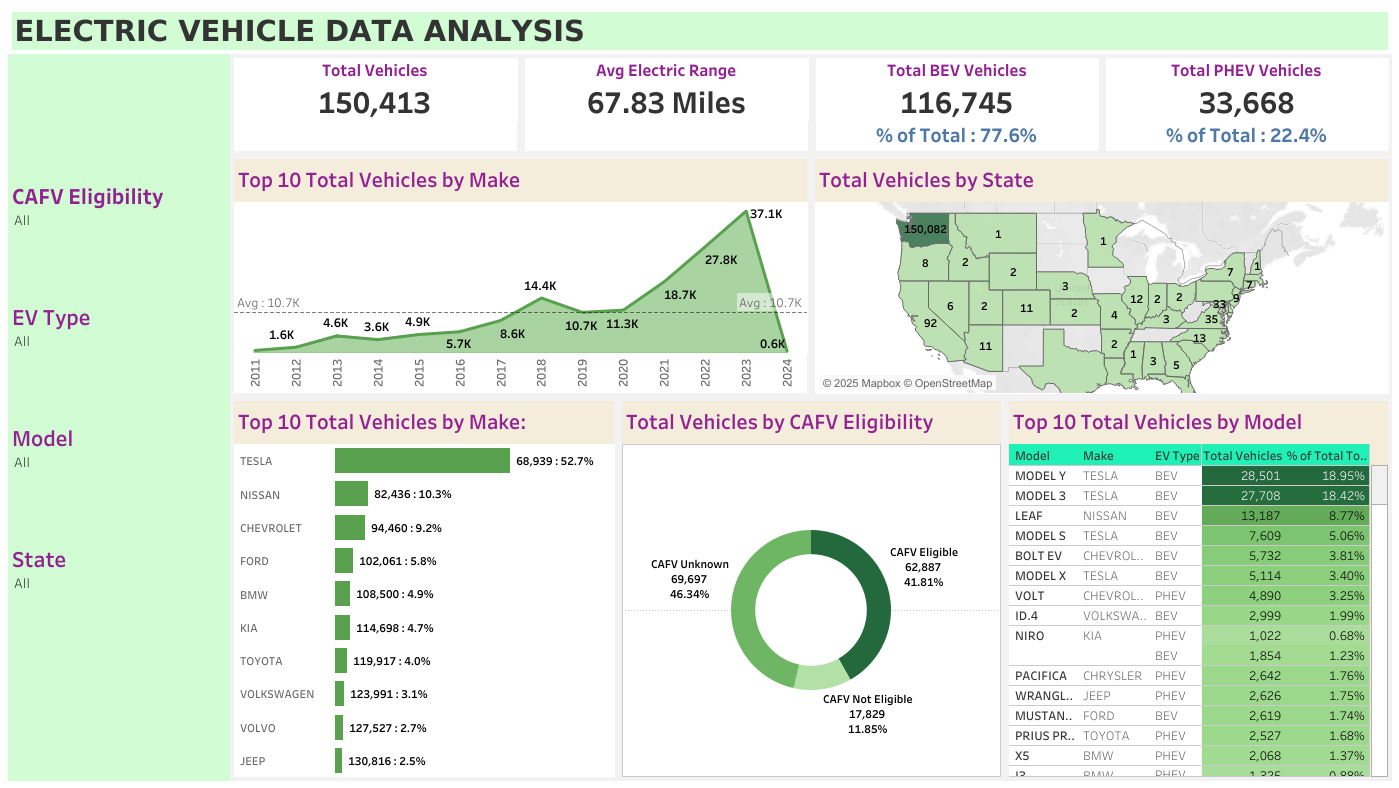

The page's visual inventory and layout, read from the dashboard file:
{"tool":"tableau","page":{"name":"Electric Vehicle Data Analysis","canvas":[1000,1000],"units":"permille","ordinal":0},"visuals":[{"type":"title","box":[5.7,9.4,988.6,58.3]},{"type":"image","param":"Image/EE.jpeg","box":[5.7,67.8,158.6,154.4]},{"type":"worksheet","title":"Total Vehicles","mark":"Automatic","box":[164.3,67.8,207.8,118.1]},{"type":"worksheet","title":"Avg Electric Range","mark":"Automatic","box":[372.1,67.8,207.9,118.1]},{"type":"worksheet","title":"Total BEV Vehicles","mark":"Automatic","box":[580,67.8,207.1,118.1]},{"type":"worksheet","title":"Total PHEV Vehicles","mark":"Automatic","box":[787.1,67.8,207.2,118.1]},{"type":"worksheet","title":"Total Vehicles by Model Year","mark":"Area","rows":["Calculation_937804304316649472","Calculation_937804304316649472"],"cols":["Model Year"],"box":[164.3,186,415,283.1]},{"type":"worksheet","title":"Total Vehicles by State","mark":"Multipolygon","box":[579.3,186,415,283.1]},{"type":"filter","title":"Total Vehicles by Model Year","param":"[federated.08ql1qa0xtur991gm3ssg025pj7s].[none:Clean Alternative Fuel Vehicle (C","box":[5.7,222.2,158.6,154.4]},{"type":"filter","title":"Total Vehicles by Model Year","param":"[federated.08ql1qa0xtur991gm3ssg025pj7s].[none:Electric Vehicle Type:nk]","box":[5.7,376.6,158.6,154.4]},{"type":"worksheet","title":"Top 10 Total Vehicles by Make","mark":"Automatic","rows":["Make"],"cols":["Calculation_937804304316649472"],"box":[164.3,469,277.1,521.6]},{"type":"worksheet","title":"Total Vehicles by CAFV Eligibility","mark":"Pie","rows":["Calculation_937804304326307847","Calculation_937804304326307847"],"box":[441.4,469,276.4,521.6]},{"type":"worksheet","title":"Top 10 Total Vehicles by Model","mark":"Square","rows":["Model","Make","Electric Vehicle Type"],"box":[717.9,469,276.4,521.6]},{"type":"filter","title":"Total Vehicles by Model Year","param":"[federated.08ql1qa0xtur991gm3ssg025pj7s].[none:Model:nk]","box":[5.7,531,158.6,153.2]},{"type":"filter","title":"Total Vehicles by Model Year","param":"[federated.08ql1qa0xtur991gm3ssg025pj7s].[none:State:nk]","box":[5.7,684.2,158.6,153.2]},{"type":"image","param":"Image/EV.jpg","box":[5.7,837.4,158.6,153.2]}]}

Visuals, with their boxes on the dashboard's canvas, which has no fixed pixel size, in thousandths of its width and height (x1, y1, x2, y2). These are canvas units, not pixel positions in the 1399x788 screenshot, which may show the page scaled, cropped or inside an application window:
title: 6, 9, 994, 68
image: 6, 68, 164, 222
"Total Vehicles" worksheet: 164, 68, 372, 186
"Avg Electric Range" worksheet: 372, 68, 580, 186
"Total BEV Vehicles" worksheet: 580, 68, 787, 186
"Total PHEV Vehicles" worksheet: 787, 68, 994, 186
"Total Vehicles by Model Year" worksheet (Area marks): 164, 186, 579, 469
"Total Vehicles by State" worksheet (Multipolygon marks): 579, 186, 994, 469
"Total Vehicles by Model Year" filter: 6, 222, 164, 377
"Total Vehicles by Model Year" filter: 6, 377, 164, 531
"Top 10 Total Vehicles by Make" worksheet: 164, 469, 441, 991
"Total Vehicles by CAFV Eligibility" worksheet (Pie marks): 441, 469, 718, 991
"Top 10 Total Vehicles by Model" worksheet (Square marks): 718, 469, 994, 991
"Total Vehicles by Model Year" filter: 6, 531, 164, 684
"Total Vehicles by Model Year" filter: 6, 684, 164, 837
image: 6, 837, 164, 991
